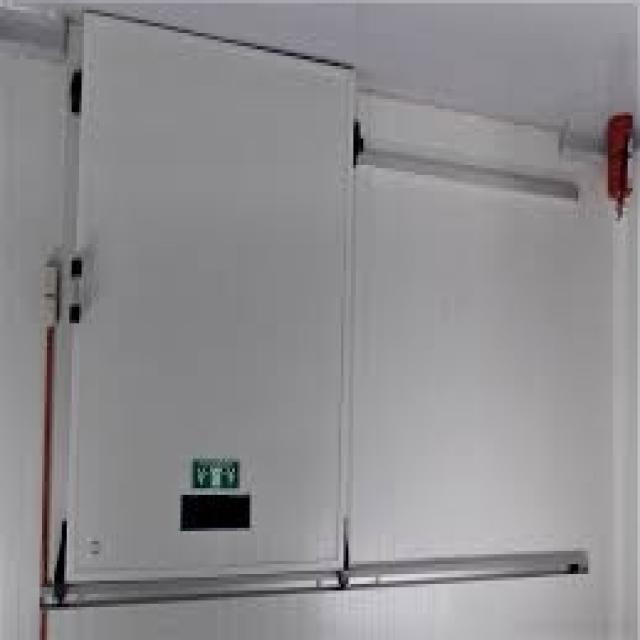door: (64, 12, 358, 586)
